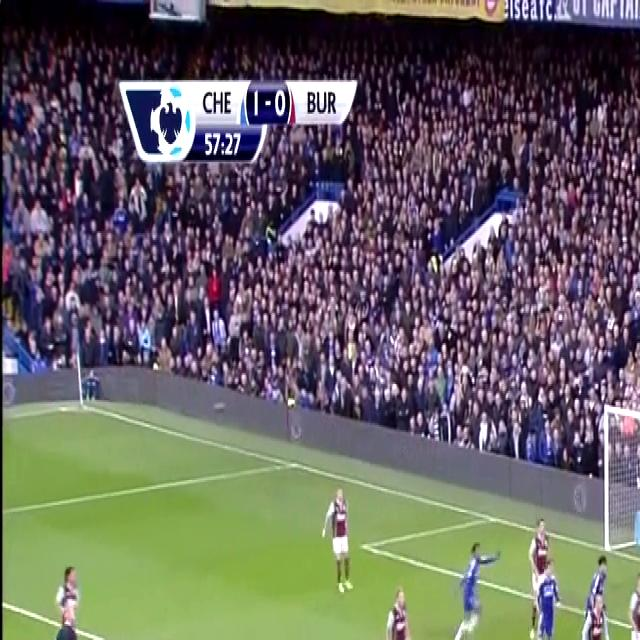soccer-player: (316, 477, 356, 606), (447, 528, 493, 640), (41, 558, 86, 640), (528, 508, 557, 620), (529, 554, 564, 640), (382, 581, 429, 640), (575, 576, 612, 640), (624, 563, 640, 640)
